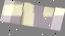scratch: (9, 0, 56, 33)
